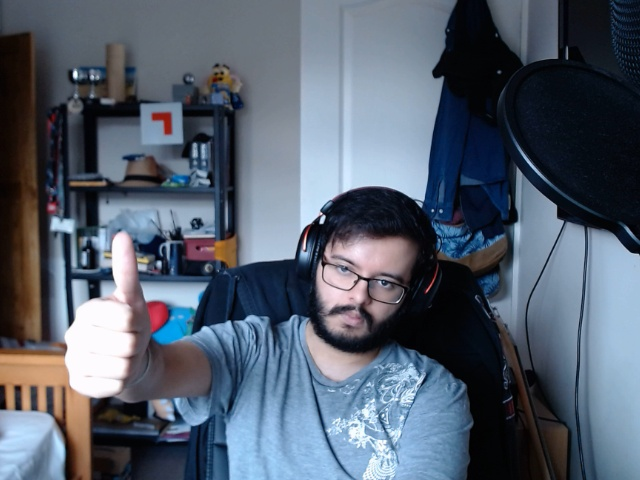Thumbs up: (52, 223, 156, 413)
